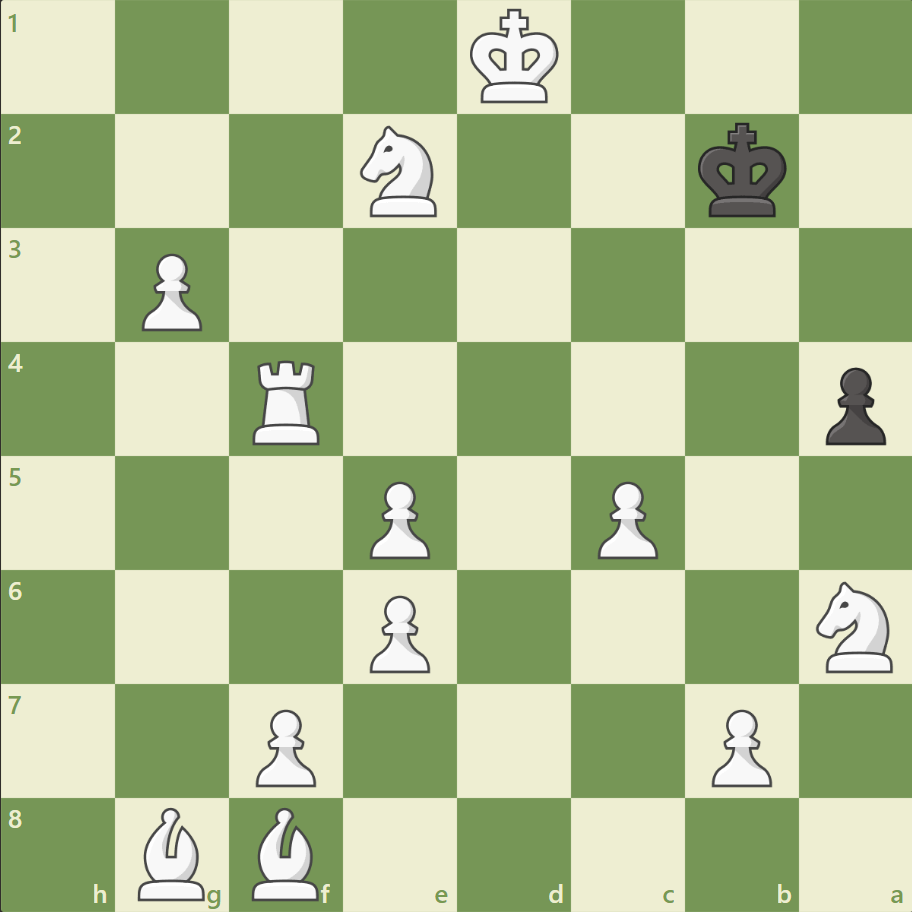B: (244, 801, 328, 904), (131, 801, 215, 904)
K: (465, 4, 565, 112)
N: (351, 121, 449, 223), (806, 575, 903, 677)
P: (701, 700, 776, 791), (247, 700, 322, 791), (133, 246, 208, 337), (361, 586, 435, 677), (588, 473, 662, 564), (361, 473, 435, 564)
R: (246, 352, 329, 449)
k: (692, 117, 792, 225)
p: (815, 359, 889, 450)
